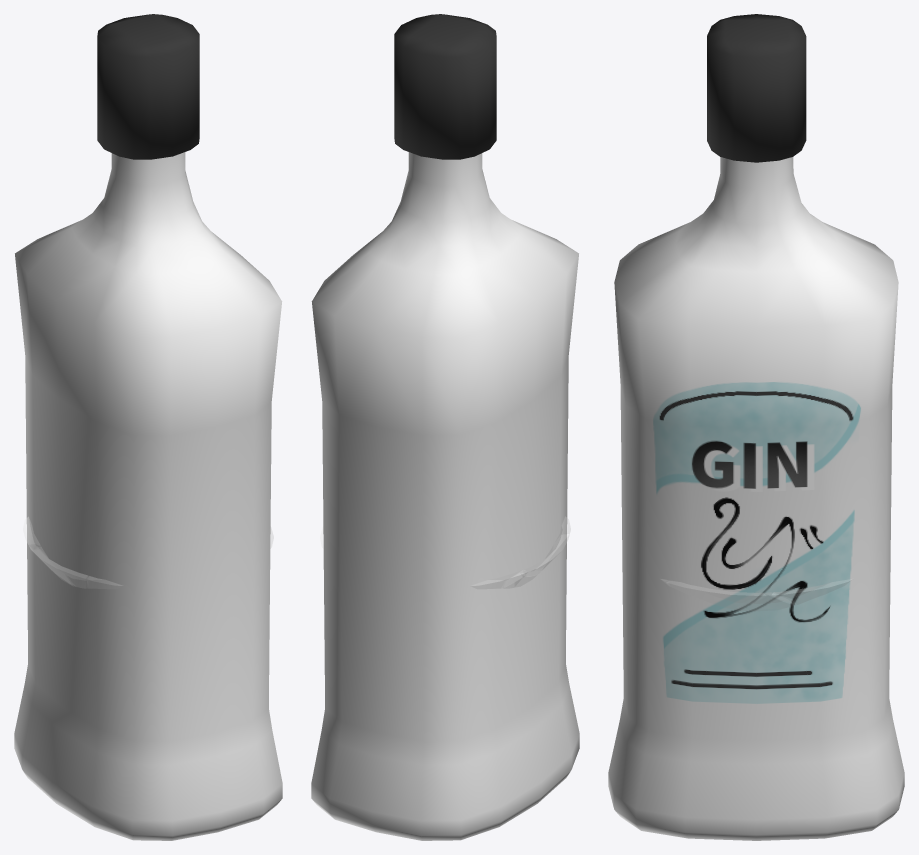
Rendered from Gin.obj.
3 renders of one model, left to right at view 1: azimuth 30°, elevation 25°; view 2: azimuth 150°, elevation 25°; view 3: azimuth 270°, elevation 25°, orthographic.
Visible parts, largest first — view 1: gin; view 2: gin; view 3: gin, 立方体.001, 立方体.002_cell.019.
Part boxes in pixels (x1,y1,x2,y2): gin: (14, 14, 282, 840); gin: (311, 14, 579, 840); gin: (608, 14, 904, 840); 立方体.001: (686, 584, 826, 603); 立方体.002_cell.019: (667, 582, 765, 608).
Bounding box in the file's own units: 0.2776 × 0.9335 × 0.3269.
